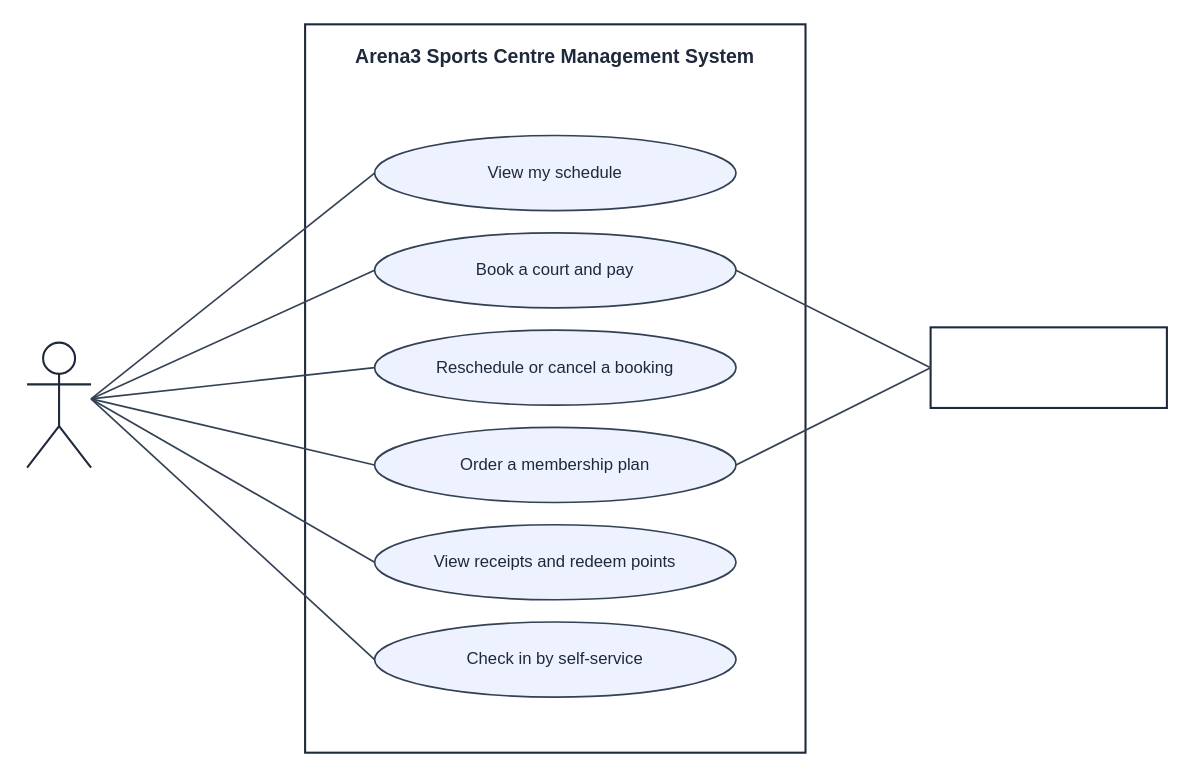
The diagram is 1193 pixels wide and 778 high, and some of its shapes have lost their labels. Here are the shapes that lost their labels. From the top down, the centre of each, then its label:
At (x=1048, y=367): "«actor» payOS".
At (x=58, y=404): "Member".
